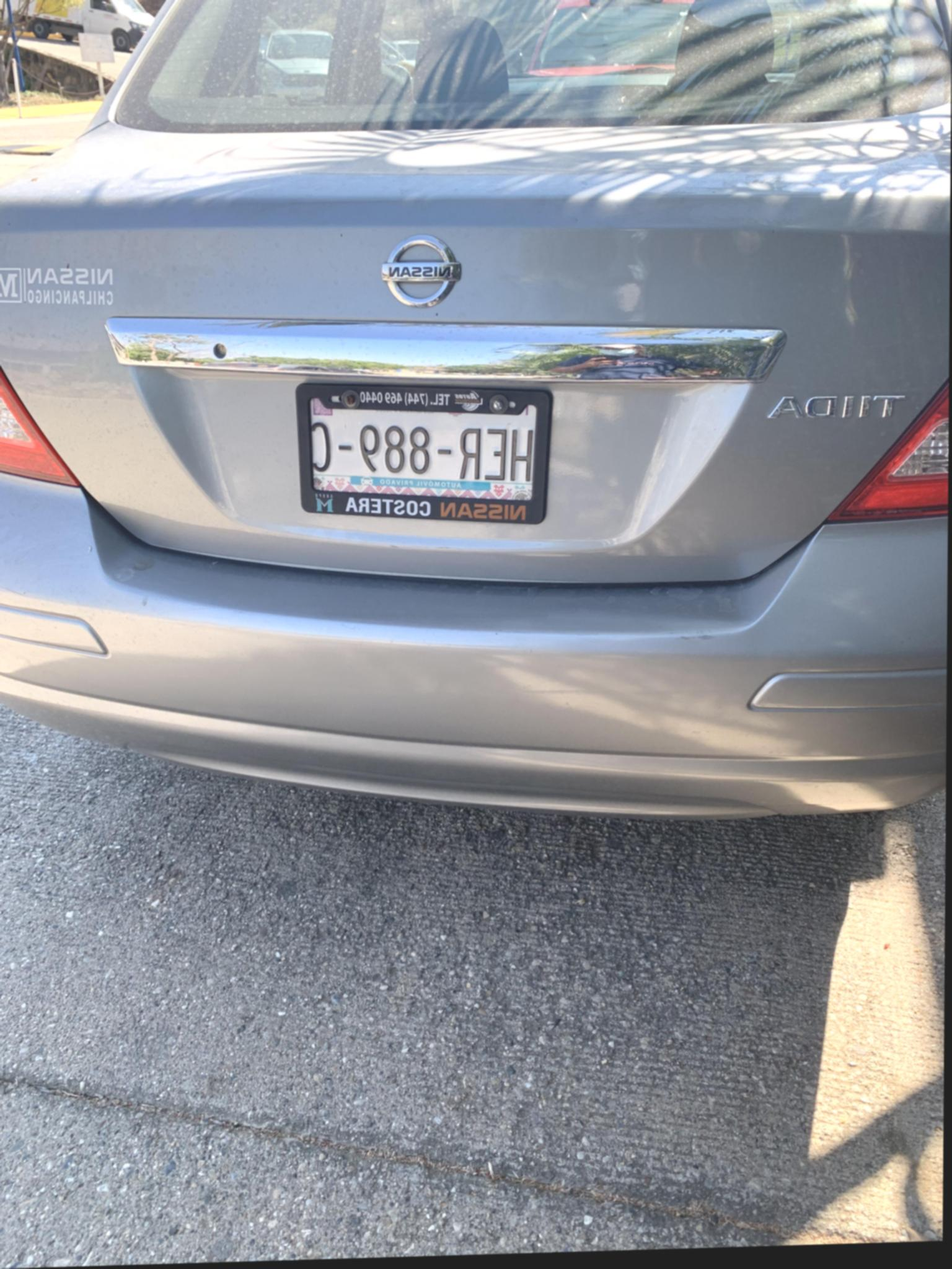License_Plate: (274, 373, 572, 533)
